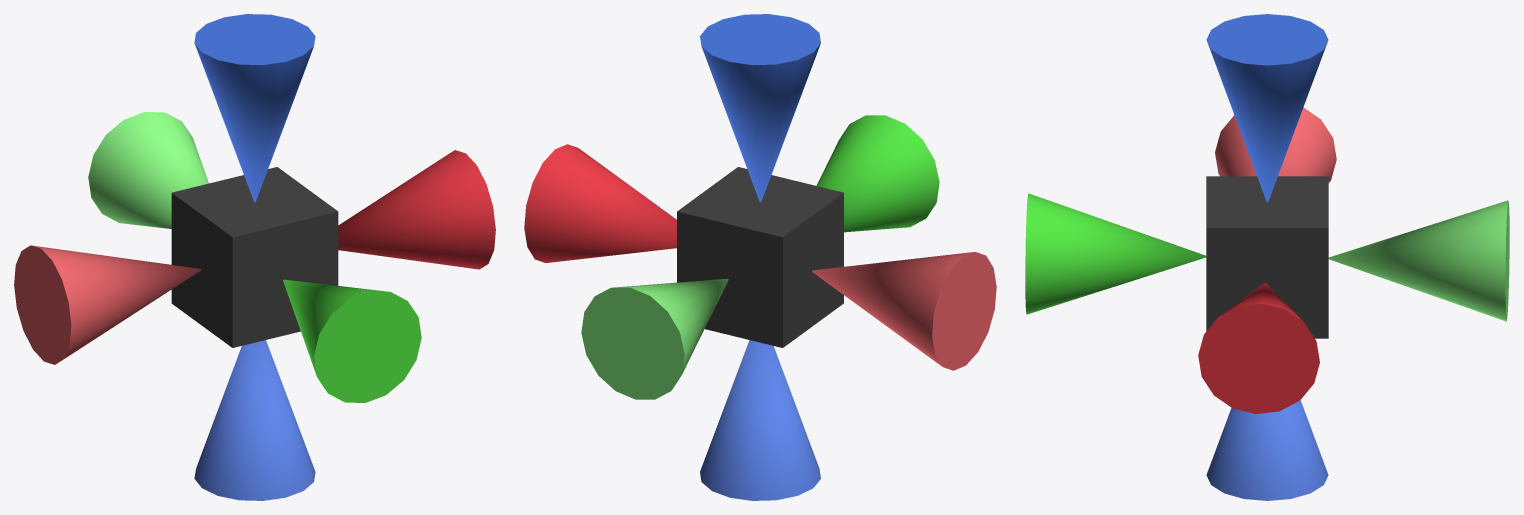
File: XYZArrowModel.fbx
The picture shows the model from 3 angles, left to right: view 1: azimuth 30°, elevation 25°; view 2: azimuth 150°, elevation 25°; view 3: azimuth 270°, elevation 25°; orthographic projection.
Visible parts, largest first — view 1: 立方体, 円錐.004, 円錐.005, 円錐, 円錐.002, 円錐.001, 円錐.003; view 2: 立方体, 円錐.005, 円錐.004, 円錐, 円錐.002, 円錐.003, 円錐.001; view 3: 立方体, 円錐.004, 円錐.001, 円錐.003, 円錐.002, 円錐, 円錐.005.
Part boxes in pixels (x1,y1,x2,y2): 立方体: (171,167,338,347); 円錐.004: (194,14,315,202); 円錐.005: (14,245,201,364); 円錐: (194,340,315,500); 円錐.002: (338,150,495,269); 円錐.001: (283,279,421,402); 円錐.003: (88,112,208,228); 立方体: (677,167,843,347); 円錐.005: (812,252,996,370); 円錐.004: (700,14,820,202); 円錐: (700,340,820,500); 円錐.002: (524,144,676,262); 円錐.003: (581,278,728,399); 円錐.001: (816,115,939,232); 立方体: (1206,176,1328,338); 円錐.004: (1206,14,1328,202); 円錐.001: (1025,193,1206,314); 円錐.003: (1328,200,1509,321); 円錐.002: (1198,282,1319,413); 円錐: (1206,400,1328,500); 円錐.005: (1215,107,1336,182).
Size of the model in its own units: 793 by 787 by 793.
